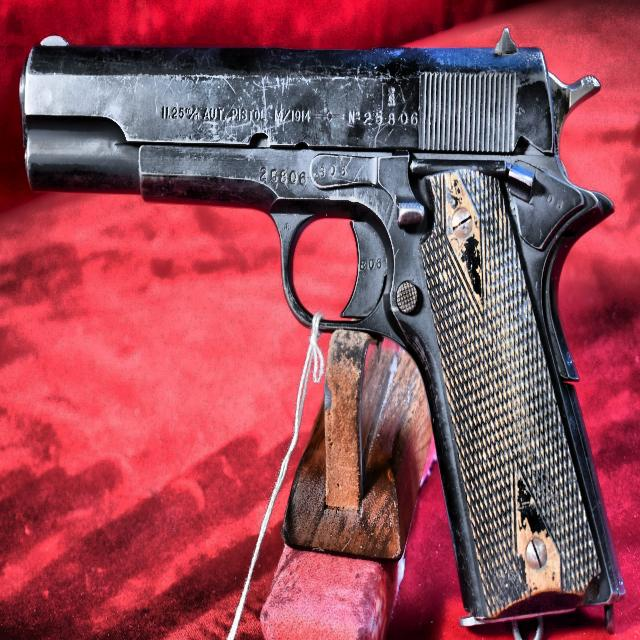Colt m1911: (19, 28, 626, 636)
